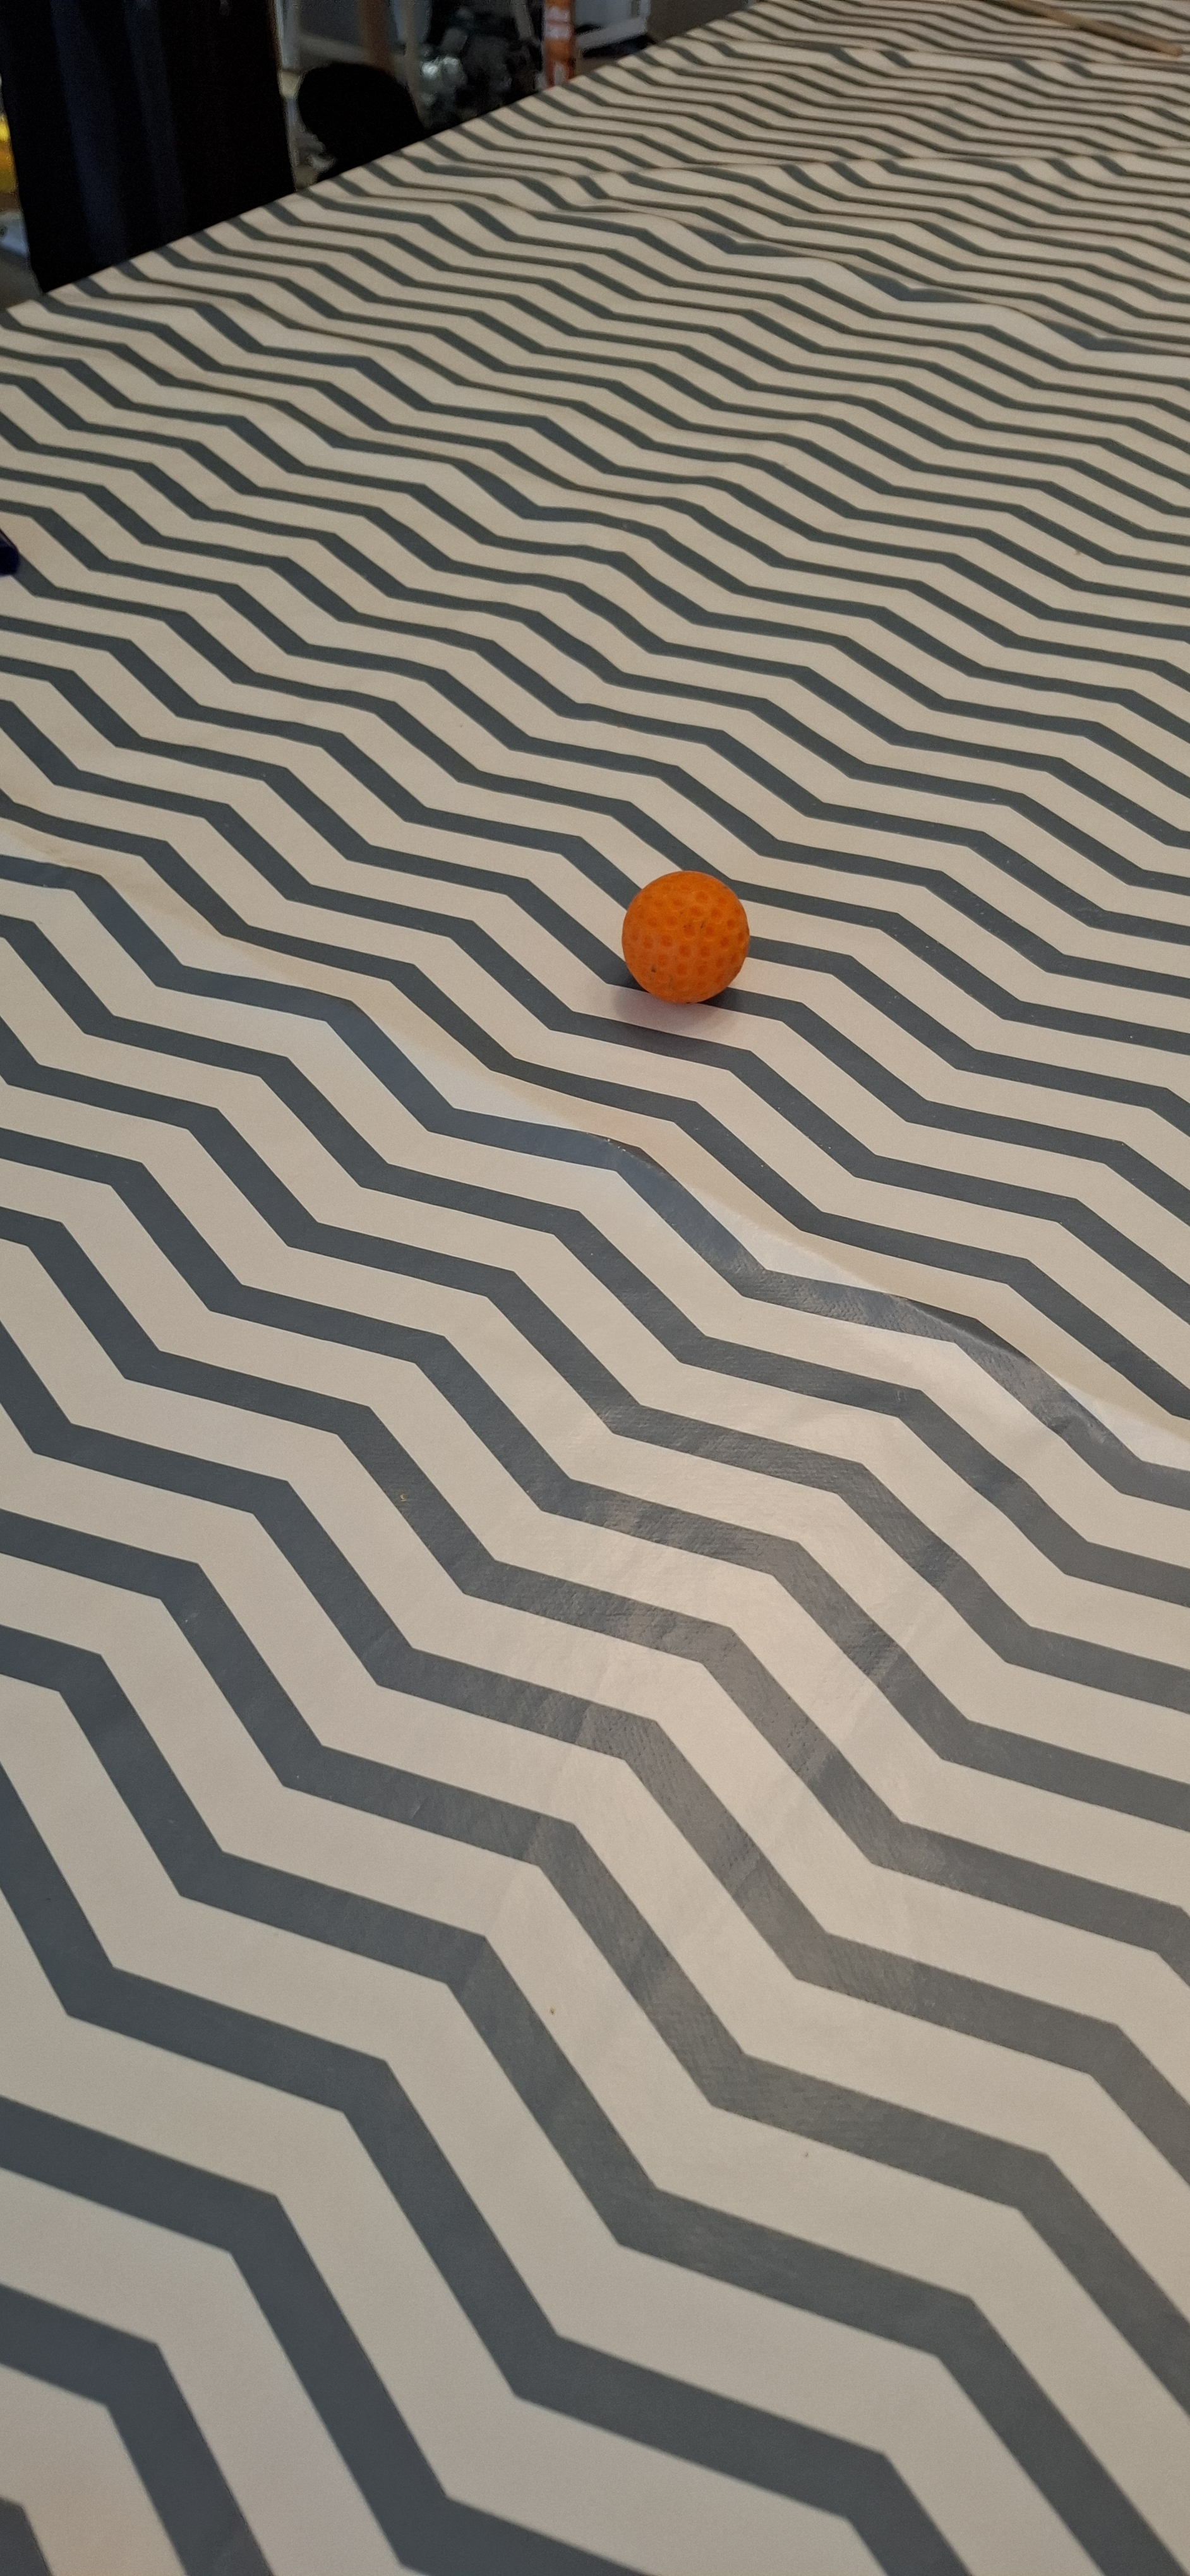ball: (399, 951, 464, 1229)
